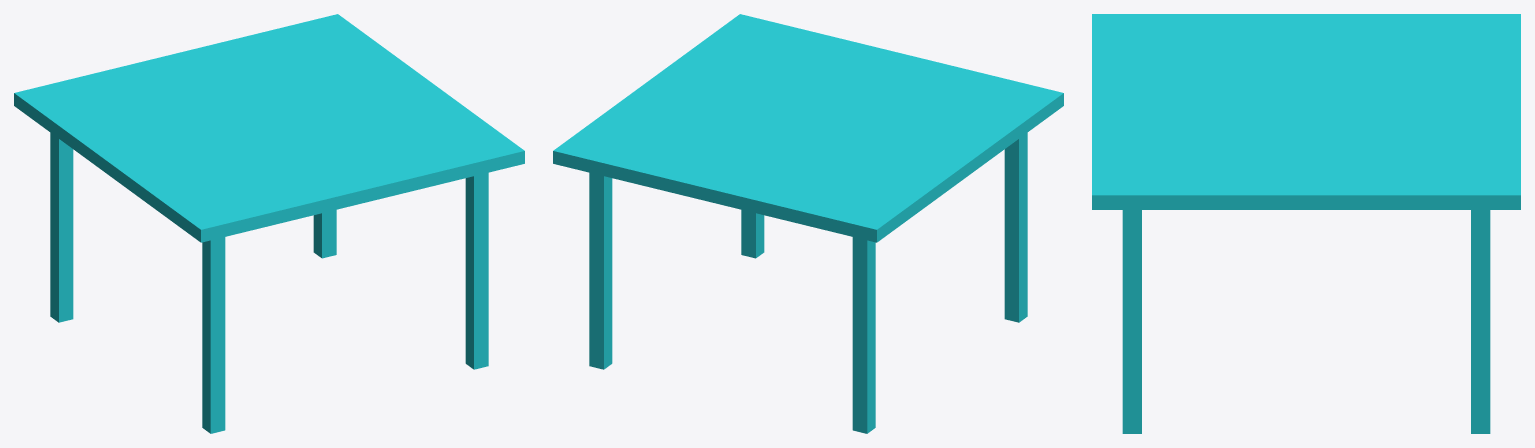
Rendered from outerTableB.fbx.
The picture shows the model from 3 angles, left to right: view 1: azimuth 30°, elevation 25°; view 2: azimuth 150°, elevation 25°; view 3: azimuth 270°, elevation 25°; orthographic projection. The views are drawn at different scales.
Parts seen in each view (by area): view 1: outerTableB; view 2: outerTableB; view 3: outerTableB.
Boxes of the visible parts, left/top/right/bottom form: outerTableB: left=14, top=14, right=524, bottom=433; outerTableB: left=553, top=14, right=1063, bottom=433; outerTableB: left=1092, top=14, right=1520, bottom=433.
Size of the model in its own units: 100 by 64.77 by 100.
